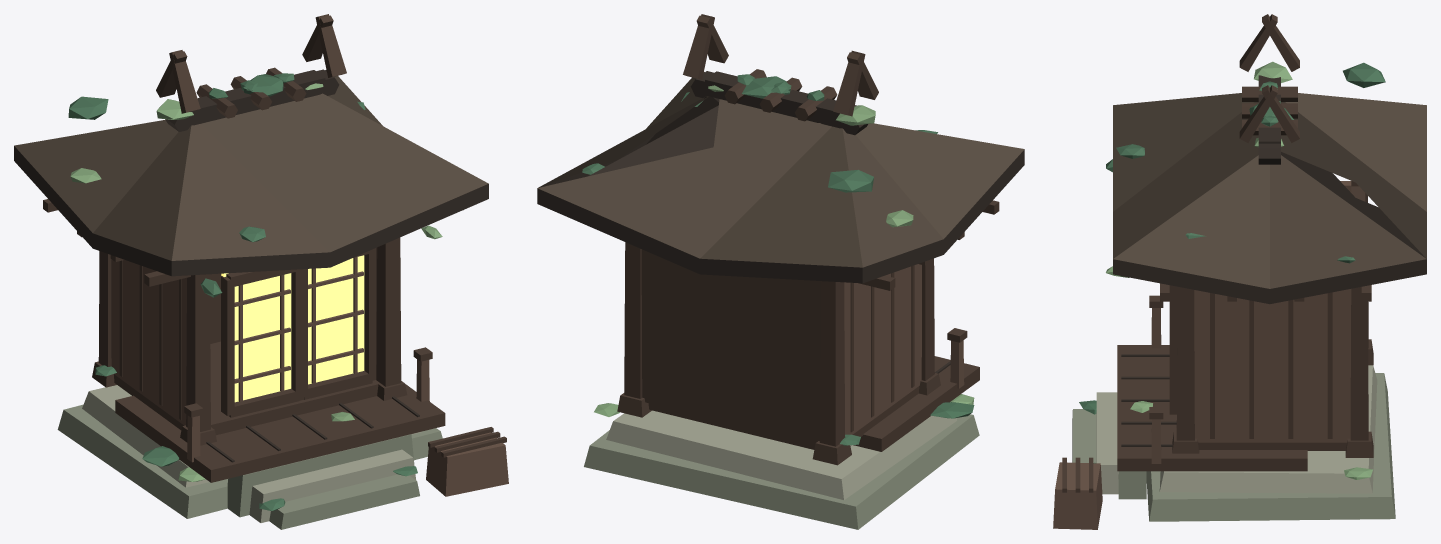
The model's file is moss_shrine.glb.
3 views of the same model, side by side, from view 1: azimuth 30°, elevation 25°; view 2: azimuth 150°, elevation 25°; view 3: azimuth 270°, elevation 25° (orthographic). The views are drawn at different scales.
Visible parts, largest first — view 1: moss_shrine; view 2: moss_shrine; view 3: moss_shrine.
Boxes of the visible parts, bbox=[...] form: moss_shrine: bbox=[14, 14, 508, 529]; moss_shrine: bbox=[537, 14, 1024, 529]; moss_shrine: bbox=[1053, 14, 1426, 529].
Bounding box in the file's own units: 2.6 × 3.18 × 2.67.
